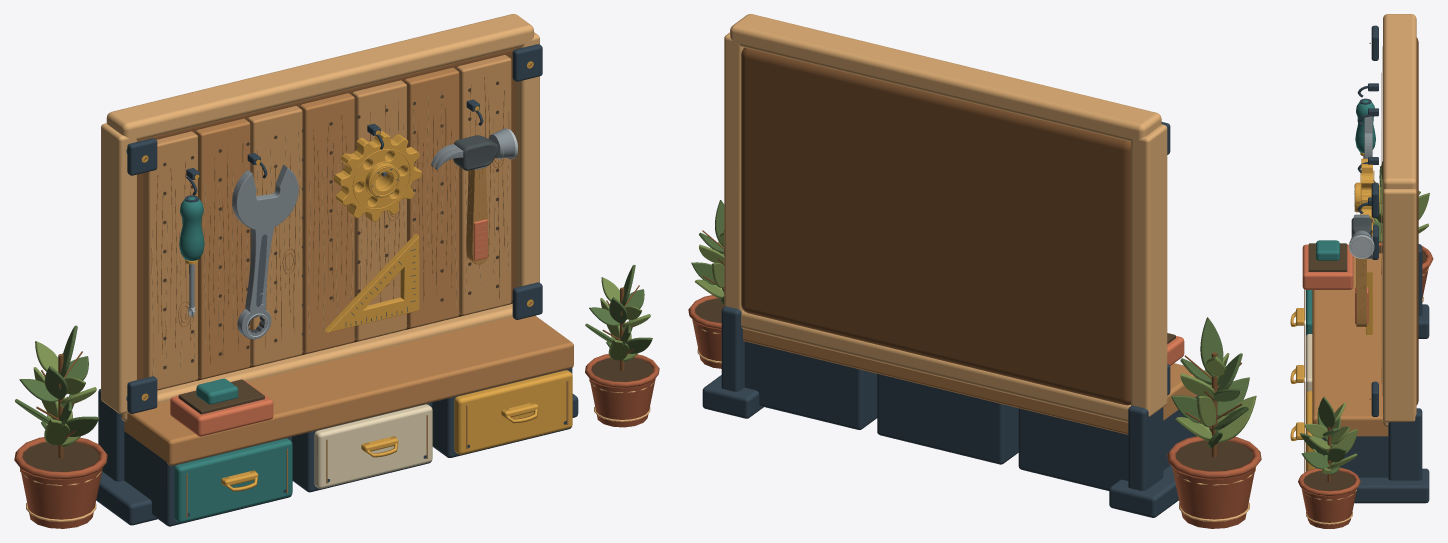
The model's file is workshop-tool-rack-final.glb.
The picture shows the model from 3 angles, left to right: view 1: azimuth 30°, elevation 25°; view 2: azimuth 150°, elevation 25°; view 3: azimuth 270°, elevation 25°; orthographic projection. The views are drawn at different scales.
Visible parts, largest first — view 1: timber, plank, edge, brass (×3), navy, pot (×2), teal, cream, grain, steel, darkWood, grainLight (+6 smaller); view 2: darkWood, edge, navy, pot (×2), timber, soil, Leaf_8, Leaf_1; view 3: edge, timber, navy, pot (×2), brass (×3), coral, darkWood, teal, soil, Wood_Handle, shadow, Teal_Handle (+13 smaller).
Boxes of the visible parts, <box> form: timber: <box>124,67,573,465</box>; plank: <box>143,55,511,389</box>; edge: <box>101,14,539,421</box>; brass (×3): <box>141,61,572,491</box>; navy: <box>96,44,578,526</box>; pot (×2): <box>14,354,659,528</box>; teal: <box>174,378,292,522</box>; cream: <box>314,404,432,488</box>; grain: <box>156,77,568,517</box>; steel: <box>232,164,298,339</box>; darkWood: <box>137,48,532,398</box>; grainLight: <box>151,88,509,375</box>; darkWood: <box>741,47,1130,405</box>; edge: <box>724,14,1167,422</box>; navy: <box>702,122,1199,517</box>; pot (×2): <box>688,295,1261,528</box>; timber: <box>743,329,1197,434</box>; soil: <box>1175,440,1253,471</box>; Leaf_8: <box>1200,317,1223,377</box>; Leaf_1: <box>1218,395,1256,442</box>; edge: <box>1383,14,1416,427</box>; timber: <box>1312,68,1388,436</box>; navy: <box>1315,25,1429,503</box>; pot (×2): <box>1298,242,1433,528</box>; brass (×3): <box>1290,158,1379,471</box>; coral: <box>1302,244,1353,289</box>; darkWood: <box>1369,37,1418,404</box>; teal: <box>1306,240,1339,335</box>; soil: <box>1303,470,1355,490</box>; Wood_Handle: <box>1356,258,1366,326</box>; shadow: <box>1308,243,1347,271</box>; Teal_Handle: <box>1355,100,1375,153</box>.
Size of the model in its own units: 2.04 by 1.25 by 0.5082.
